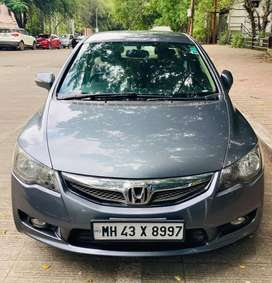MH43X8997: (94, 222, 183, 239)
